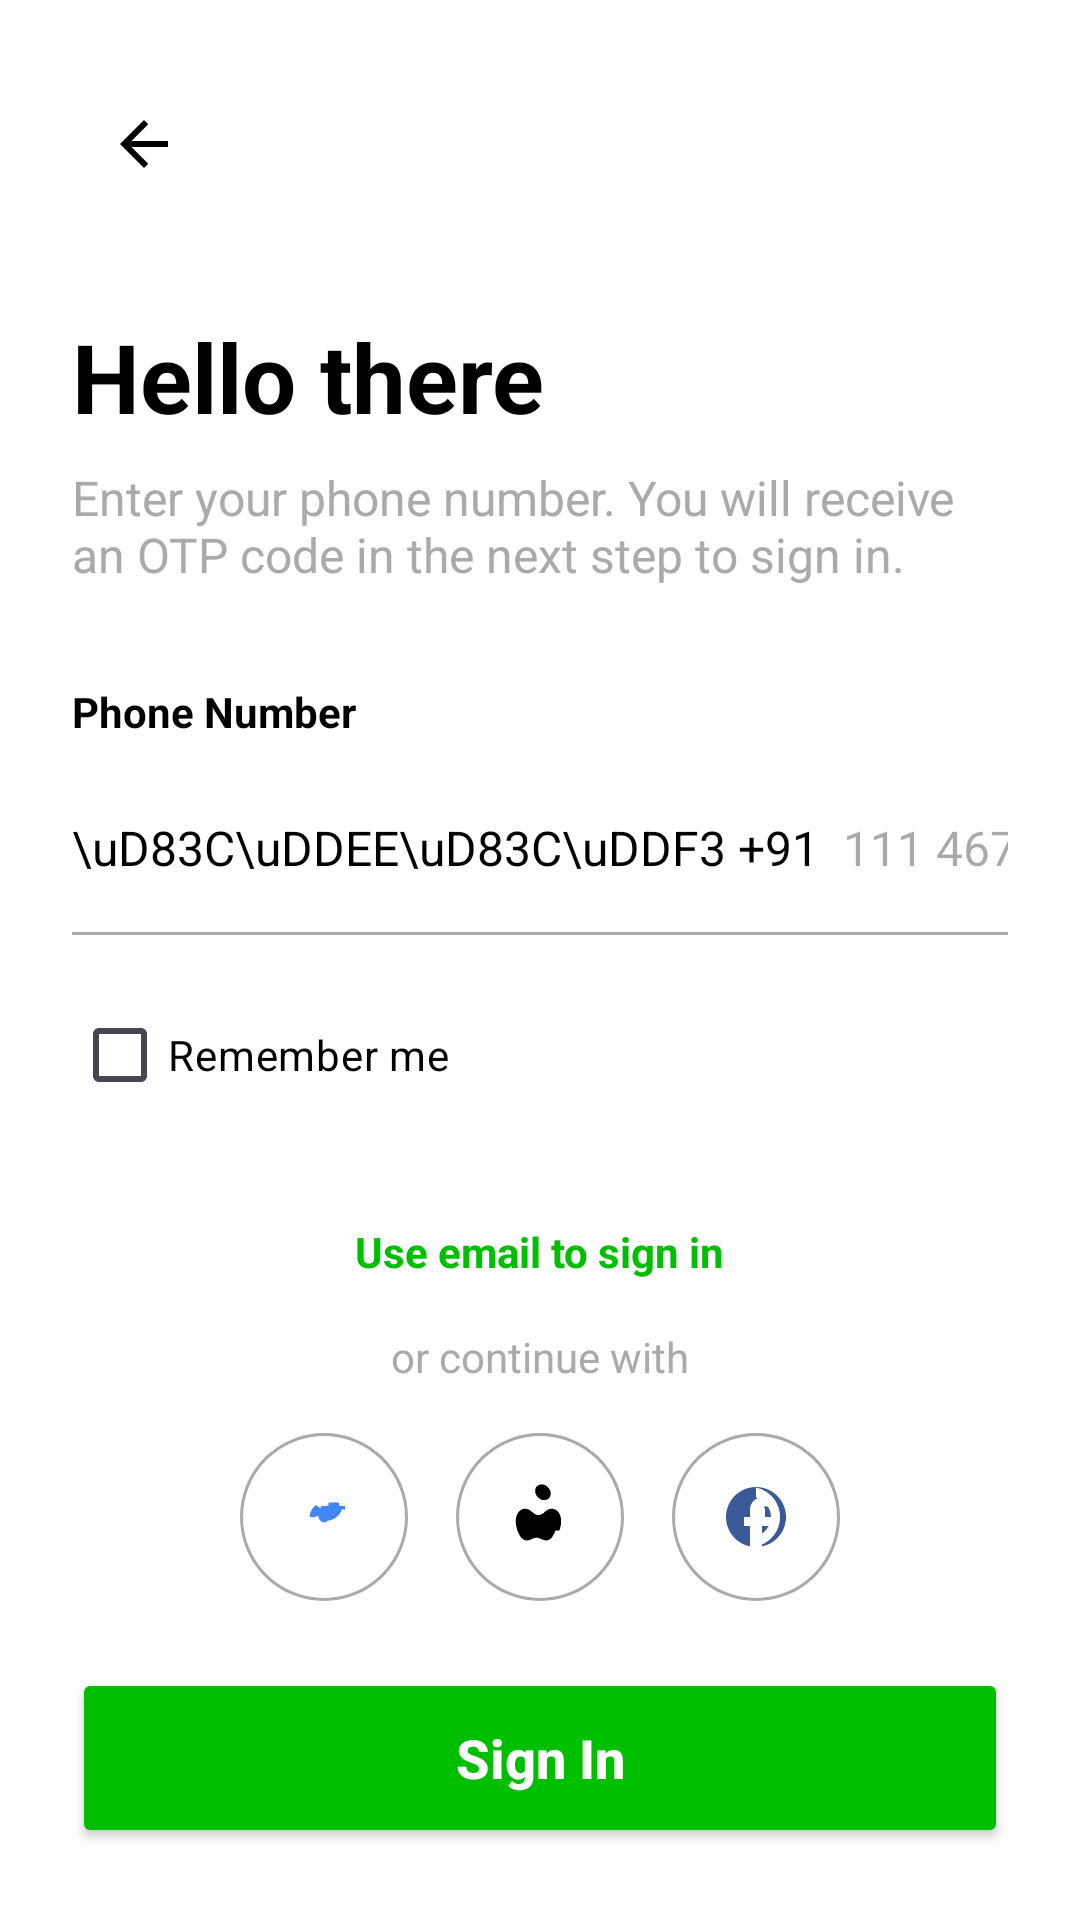

Icon click points for this 1080*1920 phone screenshot, format (x,y):
Back: (144,144)
